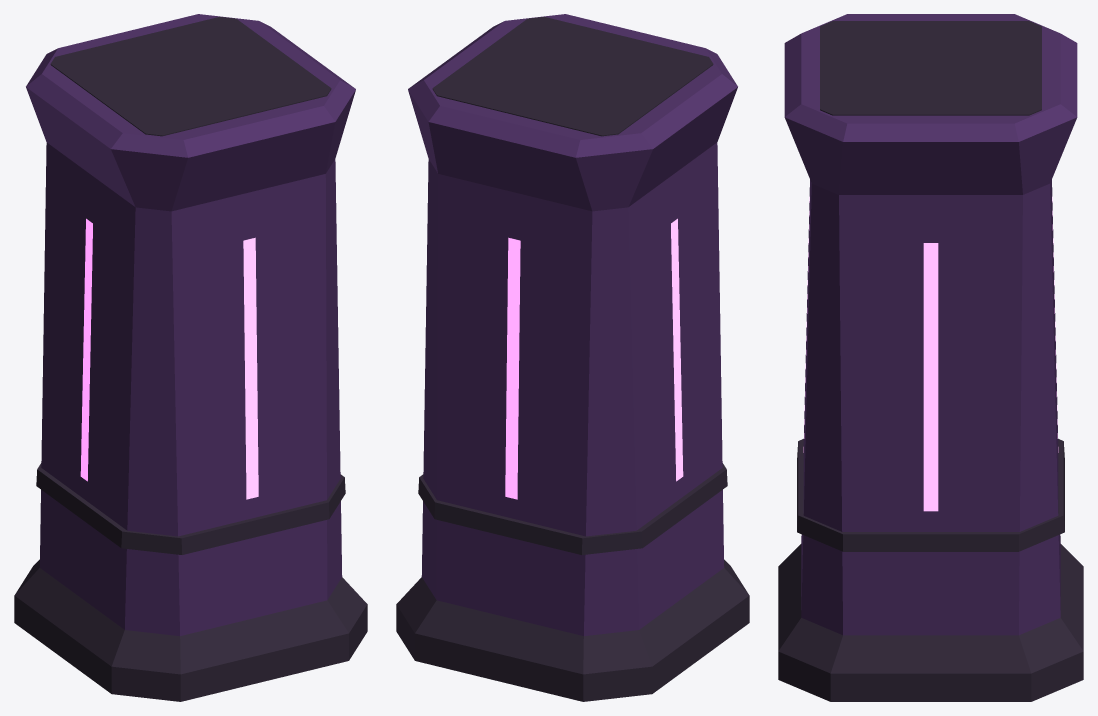
File: SM_SB_Kit_AlienPylon.fbx
3 renders of one model, left to right at view 1: azimuth 30°, elevation 25°; view 2: azimuth 150°, elevation 25°; view 3: azimuth 270°, elevation 25°, orthographic. The views are drawn at different scales.
Parts seen in each view (by area): view 1: SM_SB_Kit_AlienPylon; view 2: SM_SB_Kit_AlienPylon; view 3: SM_SB_Kit_AlienPylon.
Boxes of the visible parts, box(x1,y1,x2,y2) form: SM_SB_Kit_AlienPylon: box(14, 14, 367, 701); SM_SB_Kit_AlienPylon: box(396, 14, 749, 701); SM_SB_Kit_AlienPylon: box(778, 14, 1083, 701).
Bounding box in the file's own units: 292 × 292 × 601.
